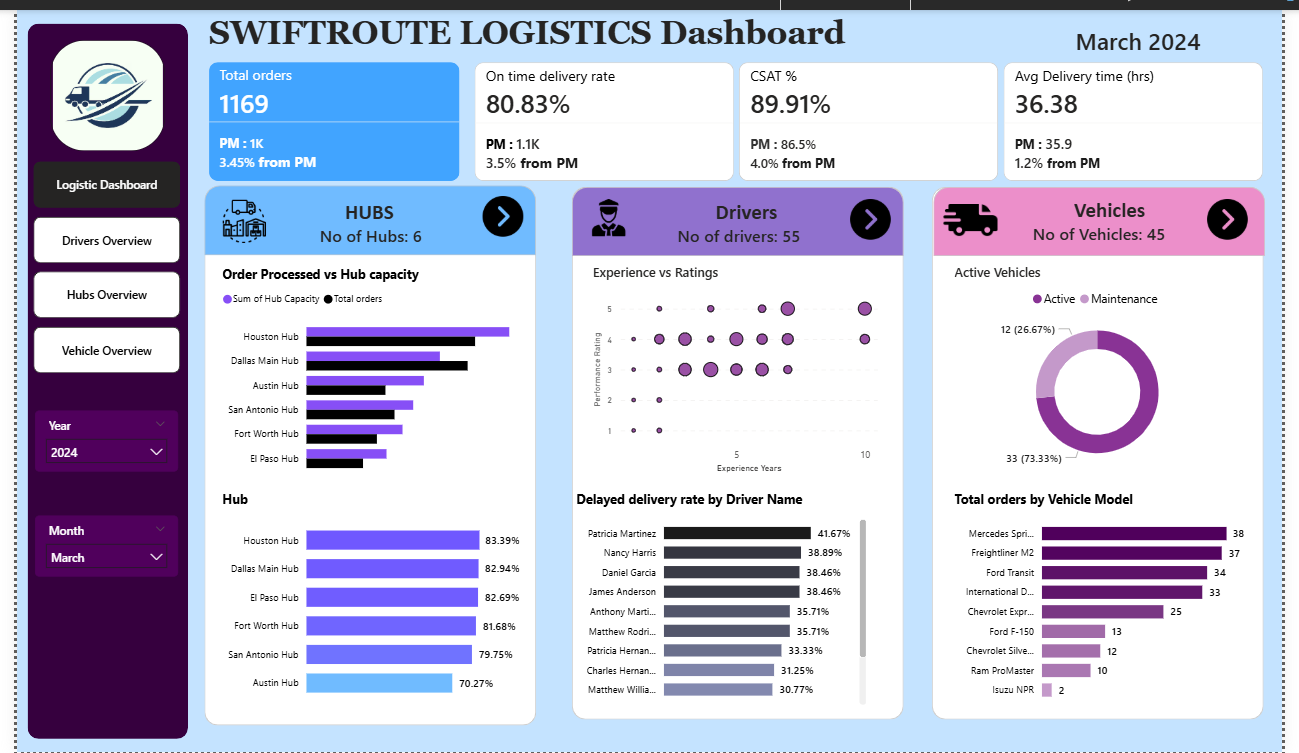

What the dashboard file says about the page in this screenshot:
{"tool":"powerbi","page":{"name":"Logistic Dashboard","canvas":[1450,850],"ordinal":0},"visuals":[{"type":"shape","box":[12,15.5,183.9,819.7],"z":0},{"type":"textbox","box":[214.8,0,838.6,104.8],"z":1000},{"type":"cardVisual","fields":{"Data":["Orders.Total orders"]},"box":[214.8,49.8,297.3,151.2],"z":2000},{"type":"slicer","fields":{"Values":["Date table.Year"]},"box":[20,459.5,164,70],"z":3000},{"type":"slicer","fields":{"Values":["Date table.Month"]},"box":[20,579.5,164,70],"z":4000},{"type":"cardVisual","fields":{"Data":["Orders.On time delivery rate","Orders.CSAT %","Orders.Avg Delivery time (hrs)"]},"box":[518.9,49.8,915.9,151.2],"z":5000},{"type":"shape","box":[214,210,380,610],"z":6000},{"type":"shape","box":[214.8,201,379.8,80],"z":7000},{"type":"textbox","box":[273.2,211.4,259.5,56.7],"z":8000},{"type":"cardVisual","fields":{"Data":["Hubs.No of hubs"]},"box":[254.3,223.4,302.4,67],"z":9000},{"type":"clusteredBarChart","title":"Order Processed vs Hub capacity","fields":{"Category":["Hubs.HubName"],"Y":["Sum(Hubs.Hub Capacity)","Orders.Total orders"]},"box":[230.3,292.1,350.5,249.2],"z":10000},{"type":"barChart","title":"Hub ","fields":{"Category":["Hubs.HubName"],"Y":["Orders.On time delivery rate"]},"box":[230.3,549.9,350.5,250.9],"z":11000},{"type":"shape","box":[635.8,202.8,379.8,610],"z":12000},{"type":"shape","box":[635.8,202.8,379.8,79],"z":13000},{"type":"textbox","box":[697.7,211.4,261.2,46.4],"z":14000},{"type":"cardVisual","fields":{"Data":["Drivers.No of derivers"]},"box":[661.6,223.4,331.6,67],"z":15000},{"type":"scatterChart","title":"Experience vs Ratings","fields":{"X":["Drivers.Experience Years"],"Y":["Drivers.Performance Rating"],"Size":["Sum(Drivers.Experience Years)1"]},"box":[654.7,290.4,342,244],"z":16000},{"type":"barChart","fields":{"Category":["Orders.Driver Name"],"Y":["Orders.Delayed delivery rate"]},"box":[635.8,549.9,342,250.9],"z":17000},{"type":"shape","box":[1048.2,202.8,379.8,610],"z":18000},{"type":"shape","box":[1049.9,202.8,379.8,79],"z":19000},{"type":"textbox","box":[1108.3,209.6,261.2,46.4],"z":20000},{"type":"cardVisual","fields":{"Data":["Vehicles.No of vehicles"]},"box":[1074,221.7,331.6,67],"z":21000},{"type":"donutChart","title":"Active Vehicles ","fields":{"Category":["Vehicles.Vehicle Status"],"Y":["CountNonNull(Vehicles.Vehicle ID)"]},"box":[1068.8,290.4,336.8,244],"z":22000},{"type":"barChart","fields":{"Category":["Vehicles.Vehicle Model"],"Y":["Orders.Total orders"]},"box":[1068.8,549.9,342,250.9],"z":23000},{"type":"image","box":[37.8,34.4,132.3,127.2],"z":24000},{"type":"cardVisual","fields":{"Data":["Orders.Year month title"]},"box":[1118.7,0,331.6,67],"z":25000},{"type":"image","box":[953.7,216.5,48.1,46.4],"z":26000},{"type":"image","box":[532.7,213.1,48.1,46.4],"z":27000},{"type":"pageNavigator","box":[18.9,173.6,168.4,244],"z":27001},{"type":"image","box":[1362.7,216.5,48.1,46.4],"z":27002},{"type":"image","box":[214.8,216.5,91.1,51.6],"z":27003},{"type":"image","box":[635.8,216.5,84.2,43],"z":27004},{"type":"image","box":[1049.9,209.6,84.2,61.9],"z":27005}]}

Visuals, with their boxes in screenshot pixels (x1, y1, x2, y2), scaled from the page's 1450x850 canvas onto the 1299x753 screenshot:
shape: [left=11, top=14, right=175, bottom=740]
textbox: [left=192, top=0, right=944, bottom=93]
cardVisual - Orders.Total orders: [left=192, top=44, right=459, bottom=178]
slicer - Date table.Year: [left=18, top=407, right=165, bottom=469]
slicer - Date table.Month: [left=18, top=513, right=165, bottom=575]
cardVisual - Orders.On time delivery rate x Orders.CSAT %: [left=465, top=44, right=1285, bottom=178]
shape: [left=192, top=186, right=532, bottom=726]
shape: [left=192, top=178, right=533, bottom=249]
textbox: [left=245, top=187, right=477, bottom=238]
cardVisual - Hubs.No of hubs: [left=228, top=198, right=499, bottom=257]
"Order Processed vs Hub capacity" clusteredBarChart: [left=206, top=259, right=520, bottom=480]
"Hub " barChart: [left=206, top=487, right=520, bottom=709]
shape: [left=570, top=180, right=910, bottom=720]
shape: [left=570, top=180, right=910, bottom=250]
textbox: [left=625, top=187, right=859, bottom=228]
cardVisual - Drivers.No of derivers: [left=593, top=198, right=890, bottom=257]
"Experience vs Ratings" scatterChart: [left=587, top=257, right=893, bottom=473]
barChart - Orders.Driver Name x Orders.Delayed delivery rate: [left=570, top=487, right=876, bottom=709]
shape: [left=939, top=180, right=1279, bottom=720]
shape: [left=941, top=180, right=1281, bottom=250]
textbox: [left=993, top=186, right=1227, bottom=227]
cardVisual - Vehicles.No of vehicles: [left=962, top=196, right=1259, bottom=256]
"Active Vehicles " donutChart: [left=957, top=257, right=1259, bottom=473]
barChart - Vehicles.Vehicle Model x Orders.Total orders: [left=957, top=487, right=1264, bottom=709]
image: [left=34, top=30, right=152, bottom=143]
cardVisual - Orders.Year month title: [left=1002, top=0, right=1298, bottom=59]
image: [left=854, top=192, right=897, bottom=233]
image: [left=477, top=189, right=520, bottom=230]
pageNavigator: [left=17, top=154, right=168, bottom=370]
image: [left=1221, top=192, right=1264, bottom=233]
image: [left=192, top=192, right=274, bottom=238]
image: [left=570, top=192, right=645, bottom=230]
image: [left=941, top=186, right=1016, bottom=241]
